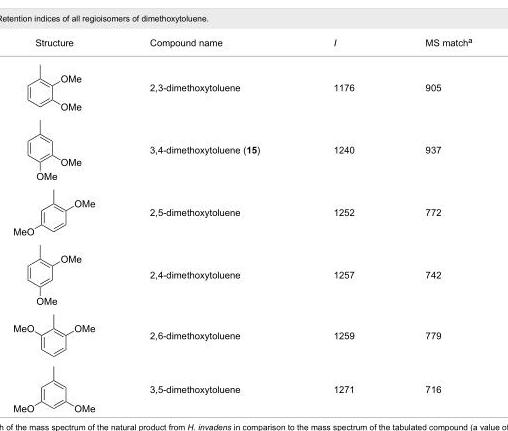table: (34, 35, 471, 393)
table column: (110, 35, 295, 393), (295, 35, 389, 393), (389, 35, 471, 393), (34, 35, 110, 393)
table row: (34, 118, 471, 180), (34, 180, 471, 242), (34, 242, 471, 304), (34, 304, 471, 361), (34, 64, 471, 118), (34, 361, 471, 393), (34, 35, 471, 64)
table spanning cell: (34, 35, 110, 393)
